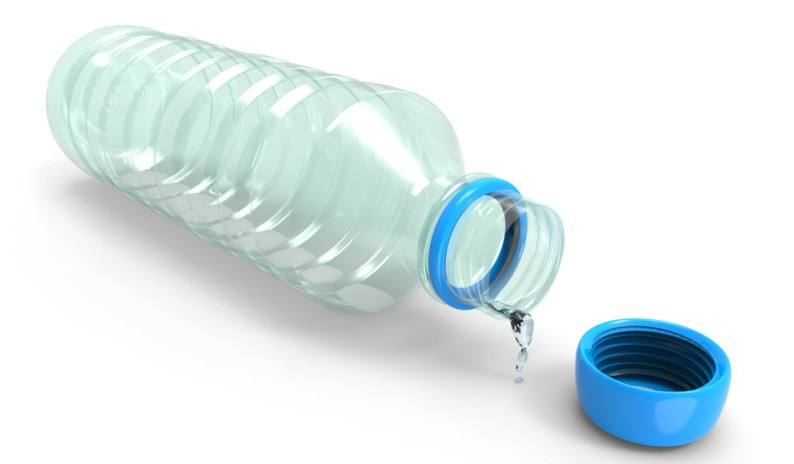emptybottle: (46, 25, 563, 317)
